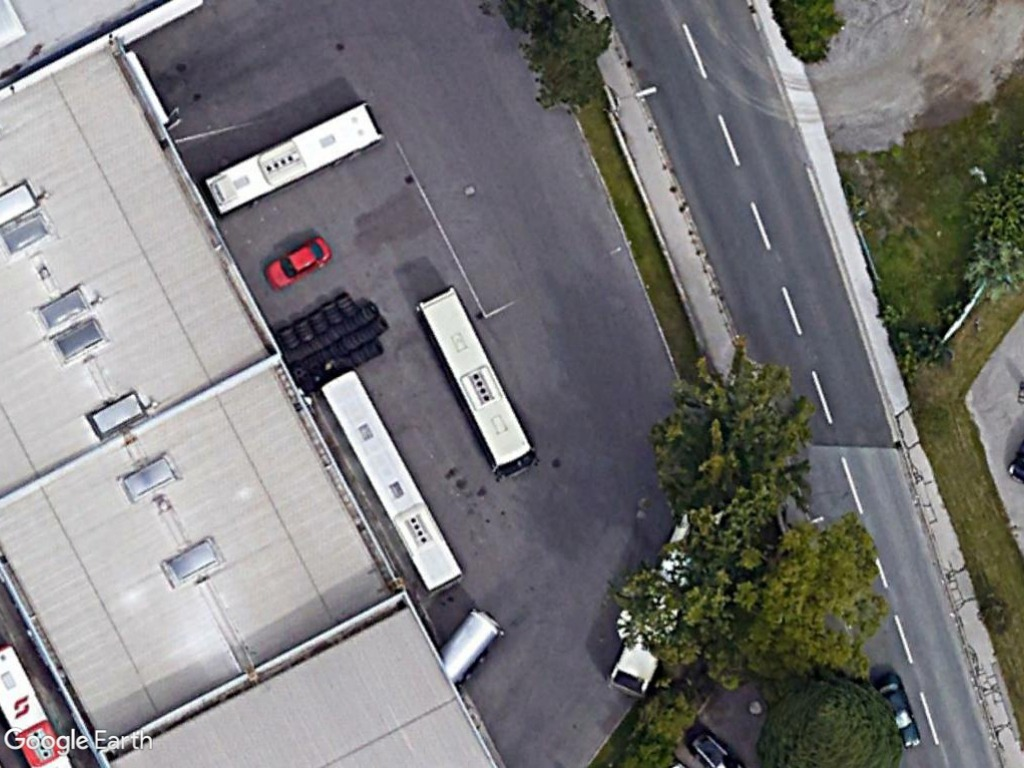bus: (315, 365, 468, 595), (414, 281, 540, 481), (198, 101, 390, 218)
car: (261, 234, 334, 292)
